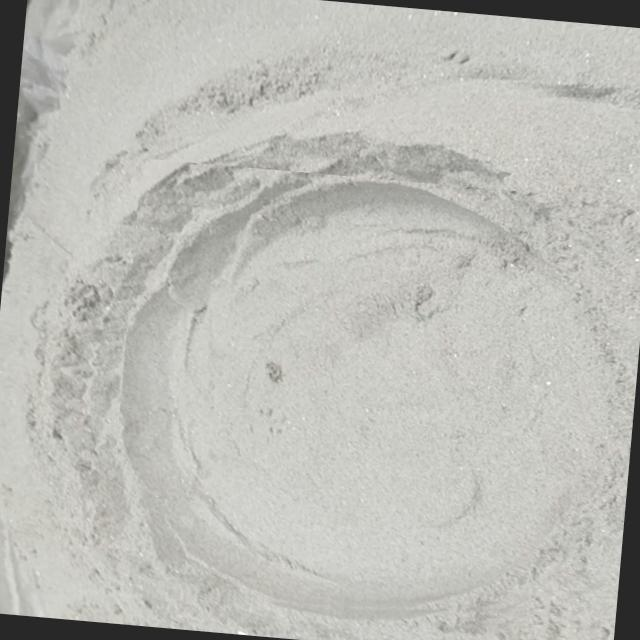C40: (117, 166, 591, 611)
